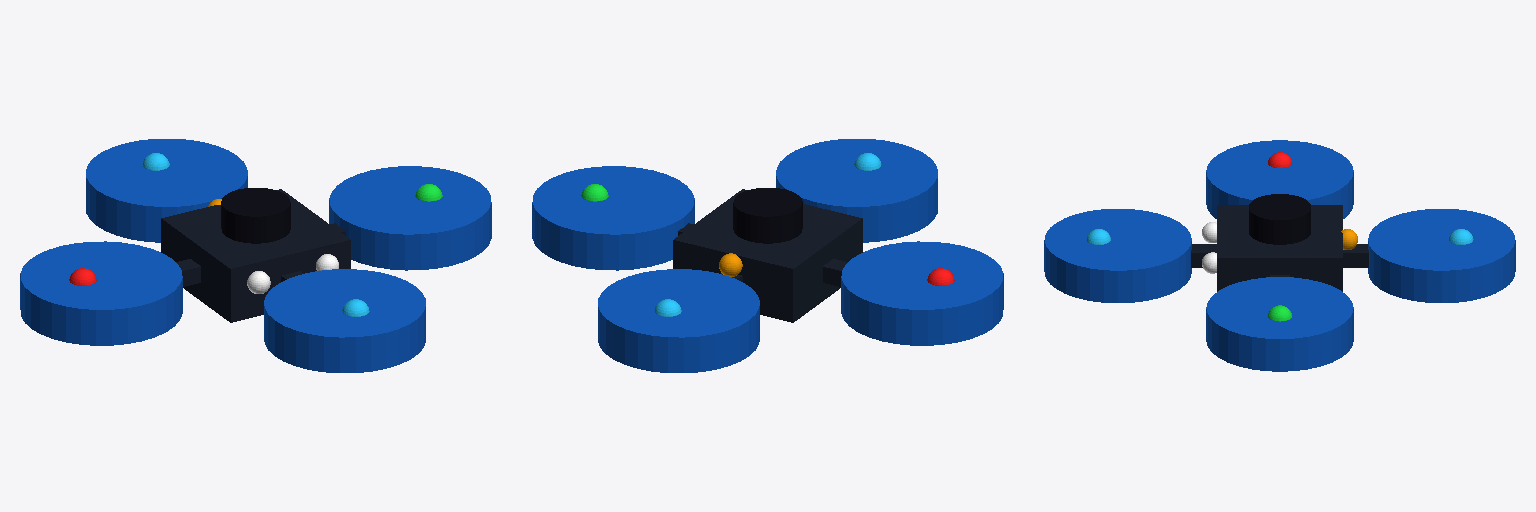
robot.urdf — evolved_shield_sentinel_v3:
<?xml version="1.0"?>
<robot name="evolved_shield_sentinel_v3">
  <!-- Base Link: Central Ducted Monocoque Airframe -->
  <link name="base_link">
    <inertial>
      <origin xyz="0 0 0" rpy="0 0 0"/>
      <mass value="0.880"/>
      <inertia ixx="0.006805" ixy="0" ixz="0" iyy="0.006805" iyz="0" izz="0.011499"/>
    </inertial>
    <!-- Main Center Avionics Hub -->
    <visual>
      <origin xyz="0 0 0" rpy="0 0 0"/>
      <geometry>
        <box size="0.14 0.14 0.06"/>
      </geometry>
      <material name="carbon_fiber">
        <color rgba="0.12 0.15 0.20 1.0"/>
      </material>
    </visual>
    <collision>
      <origin xyz="0 0 0" rpy="0 0 0"/>
      <geometry>
        <box size="0.14 0.14 0.06"/>
      </geometry>
    </collision>
    <!-- Downward Optical Flow & Ground ToF Sensor -->
    <visual>
      <origin xyz="0 0 -0.035" rpy="0 0 0"/>
      <geometry>
        <cylinder radius="0.02" length="0.015"/>
      </geometry>
      <material name="sensor_lens">
        <color rgba="0.0 0.8 1.0 0.9"/>
      </material>
    </visual>
    <!-- Top 360 LiDAR Turret -->
    <visual>
      <origin xyz="0 0 0.045" rpy="0 0 0"/>
      <geometry>
        <cylinder radius="0.035" length="0.03"/>
      </geometry>
      <material name="lidar_black">
        <color rgba="0.08 0.08 0.12 1.0"/>
      </material>
    </visual>
    <!-- Nose Dual White Orientation Headlights -->
    <visual>
      <origin xyz="0.04 -0.075 0.01" rpy="0 0 0"/>
      <geometry>
        <sphere radius="0.012"/>
      </geometry>
      <material name="headlight_white">
        <color rgba="1.0 1.0 1.0 1.0"/>
      </material>
    </visual>
    <visual>
      <origin xyz="-0.04 -0.075 0.01" rpy="0 0 0"/>
      <geometry>
        <sphere radius="0.012"/>
      </geometry>
      <material name="headlight_white">
        <color rgba="1.0 1.0 1.0 1.0"/>
      </material>
    </visual>
    <!-- Tail Amber Strobe Beacon -->
    <visual>
      <origin xyz="0 0.075 0.02" rpy="0 0 0"/>
      <geometry>
        <sphere radius="0.012"/>
      </geometry>
      <material name="tail_amber">
        <color rgba="0.96 0.62 0.04 1.0"/>
      </material>
    </visual>
  </link>

  <!-- Arm 1 & Integrated Polycarbonate Duct Guard Ring -->
  <link name="arm_1">
    <inertial>
      <origin xyz="0.0900 0.0000 0" rpy="0 0 0"/>
      <mass value="0.045"/>
      <inertia ixx="0.0001" ixy="0" ixz="0" iyy="0.0001" iyz="0" izz="0.0001"/>
    </inertial>
    <!-- Structural Arm Carbon Rod -->
    <visual>
      <origin xyz="0.0900 0.0000 0" rpy="0 0 0.0000"/>
      <geometry>
        <box size="0.1800 0.022 0.018"/>
      </geometry>
      <material name="carbon_fiber"/>
    </visual>
    <!-- 360° Circular Ducted Bumper Guard (Shock Absorbing Collision Ring) -->
    <visual>
      <origin xyz="0.1800 0.0000 0" rpy="0 0 0"/>
      <geometry>
        <cylinder radius="0.082" length="0.040"/>
      </geometry>
      <material name="polycarb_guard">
        <color rgba="0.1 0.4 0.8 0.35"/>
      </material>
    </visual>
    <collision>
      <origin xyz="0.1800 0.0000 0" rpy="0 0 0"/>
      <geometry>
        <cylinder radius="0.082" length="0.040"/>
      </geometry>
    </collision>
    <!-- Aviation Navigation LED Beacon (Left=Red, Right=Green) -->
    <visual>
      <origin xyz="0.2016 0.0000 0.018" rpy="0 0 0"/>
      <geometry>
        <sphere radius="0.014"/>
      </geometry>
      <material name="nav_led_1">
        <color rgba="0.15 0.9 0.3 1.0"/>
      </material>
    </visual>
  </link>
  <joint name="joint_arm_1" type="fixed">
    <parent link="base_link"/>
    <child link="arm_1"/>
    <origin xyz="0 0 0" rpy="0 0 0"/>
  </joint>

  <!-- Rotor 1 Link (Protected Inside Duct) -->
  <link name="rotor_1">
    <inertial>
      <origin xyz="0.1800 0.0000 0.01" rpy="0 0 0"/>
      <mass value="0.006"/>
      <inertia ixx="0.000005" ixy="0" ixz="0" iyy="0.000005" iyz="0" izz="0.000010"/>
    </inertial>
    <visual>
      <origin xyz="0.1800 0.0000 0.01" rpy="0 0 0"/>
      <geometry>
        <cylinder radius="0.065" length="0.006"/>
      </geometry>
      <material name="prop_cyan">
        <color rgba="0.0 0.85 1.0 0.6"/>
      </material>
    </visual>
  </link>
  <joint name="joint_rotor_1" type="continuous">
    <parent link="arm_1"/>
    <child link="rotor_1"/>
    <origin xyz="0 0 0" rpy="0 0 0"/>
    <axis xyz="0 0 1"/>
  </joint>

  <!-- Arm 2 & Integrated Polycarbonate Duct Guard Ring -->
  <link name="arm_2">
    <inertial>
      <origin xyz="0.0000 0.0900 0" rpy="0 0 0"/>
      <mass value="0.045"/>
      <inertia ixx="0.0001" ixy="0" ixz="0" iyy="0.0001" iyz="0" izz="0.0001"/>
    </inertial>
    <!-- Structural Arm Carbon Rod -->
    <visual>
      <origin xyz="0.0000 0.0900 0" rpy="0 0 1.5708"/>
      <geometry>
        <box size="0.1800 0.022 0.018"/>
      </geometry>
      <material name="carbon_fiber"/>
    </visual>
    <!-- 360° Circular Ducted Bumper Guard (Shock Absorbing Collision Ring) -->
    <visual>
      <origin xyz="0.0000 0.1800 0" rpy="0 0 0"/>
      <geometry>
        <cylinder radius="0.082" length="0.040"/>
      </geometry>
      <material name="polycarb_guard">
        <color rgba="0.1 0.4 0.8 0.35"/>
      </material>
    </visual>
    <collision>
      <origin xyz="0.0000 0.1800 0" rpy="0 0 0"/>
      <geometry>
        <cylinder radius="0.082" length="0.040"/>
      </geometry>
    </collision>
    <!-- Aviation Navigation LED Beacon (Left=Red, Right=Green) -->
    <visual>
      <origin xyz="0.0000 0.2016 0.018" rpy="0 0 0"/>
      <geometry>
        <sphere radius="0.014"/>
      </geometry>
      <material name="nav_led_2">
        <color rgba="0.2 0.8 1.0 1.0"/>
      </material>
    </visual>
  </link>
  <joint name="joint_arm_2" type="fixed">
    <parent link="base_link"/>
    <child link="arm_2"/>
    <origin xyz="0 0 0" rpy="0 0 0"/>
  </joint>

  <!-- Rotor 2 Link (Protected Inside Duct) -->
  <link name="rotor_2">
    <inertial>
      <origin xyz="0.0000 0.1800 0.01" rpy="0 0 0"/>
      <mass value="0.006"/>
      <inertia ixx="0.000005" ixy="0" ixz="0" iyy="0.000005" iyz="0" izz="0.000010"/>
    </inertial>
    <visual>
      <origin xyz="0.0000 0.1800 0.01" rpy="0 0 0"/>
      <geometry>
        <cylinder radius="0.065" length="0.006"/>
      </geometry>
      <material name="prop_cyan">
        <color rgba="0.0 0.85 1.0 0.6"/>
      </material>
    </visual>
  </link>
  <joint name="joint_rotor_2" type="continuous">
    <parent link="arm_2"/>
    <child link="rotor_2"/>
    <origin xyz="0 0 0" rpy="0 0 0"/>
    <axis xyz="0 0 1"/>
  </joint>

  <!-- Arm 3 & Integrated Polycarbonate Duct Guard Ring -->
  <link name="arm_3">
    <inertial>
      <origin xyz="-0.0900 0.0000 0" rpy="0 0 0"/>
      <mass value="0.045"/>
      <inertia ixx="0.0001" ixy="0" ixz="0" iyy="0.0001" iyz="0" izz="0.0001"/>
    </inertial>
    <!-- Structural Arm Carbon Rod -->
    <visual>
      <origin xyz="-0.0900 0.0000 0" rpy="0 0 3.1416"/>
      <geometry>
        <box size="0.1800 0.022 0.018"/>
      </geometry>
      <material name="carbon_fiber"/>
    </visual>
    <!-- 360° Circular Ducted Bumper Guard (Shock Absorbing Collision Ring) -->
    <visual>
      <origin xyz="-0.1800 0.0000 0" rpy="0 0 0"/>
      <geometry>
        <cylinder radius="0.082" length="0.040"/>
      </geometry>
      <material name="polycarb_guard">
        <color rgba="0.1 0.4 0.8 0.35"/>
      </material>
    </visual>
    <collision>
      <origin xyz="-0.1800 0.0000 0" rpy="0 0 0"/>
      <geometry>
        <cylinder radius="0.082" length="0.040"/>
      </geometry>
    </collision>
    <!-- Aviation Navigation LED Beacon (Left=Red, Right=Green) -->
    <visual>
      <origin xyz="-0.2016 0.0000 0.018" rpy="0 0 0"/>
      <geometry>
        <sphere radius="0.014"/>
      </geometry>
      <material name="nav_led_3">
        <color rgba="1.0 0.15 0.15 1.0"/>
      </material>
    </visual>
  </link>
  <joint name="joint_arm_3" type="fixed">
    <parent link="base_link"/>
    <child link="arm_3"/>
    <origin xyz="0 0 0" rpy="0 0 0"/>
  </joint>

  <!-- Rotor 3 Link (Protected Inside Duct) -->
  <link name="rotor_3">
    <inertial>
      <origin xyz="-0.1800 0.0000 0.01" rpy="0 0 0"/>
      <mass value="0.006"/>
      <inertia ixx="0.000005" ixy="0" ixz="0" iyy="0.000005" iyz="0" izz="0.000010"/>
    </inertial>
    <visual>
      <origin xyz="-0.1800 0.0000 0.01" rpy="0 0 0"/>
      <geometry>
        <cylinder radius="0.065" length="0.006"/>
      </geometry>
      <material name="prop_cyan">
        <color rgba="0.0 0.85 1.0 0.6"/>
      </material>
    </visual>
  </link>
  <joint name="joint_rotor_3" type="continuous">
    <parent link="arm_3"/>
    <child link="rotor_3"/>
    <origin xyz="0 0 0" rpy="0 0 0"/>
    <axis xyz="0 0 1"/>
  </joint>

  <!-- Arm 4 & Integrated Polycarbonate Duct Guard Ring -->
  <link name="arm_4">
    <inertial>
      <origin xyz="-0.0000 -0.0900 0" rpy="0 0 0"/>
      <mass value="0.045"/>
      <inertia ixx="0.0001" ixy="0" ixz="0" iyy="0.0001" iyz="0" izz="0.0001"/>
    </inertial>
    <!-- Structural Arm Carbon Rod -->
    <visual>
      <origin xyz="-0.0000 -0.0900 0" rpy="0 0 4.7124"/>
      <geometry>
        <box size="0.1800 0.022 0.018"/>
      </geometry>
      <material name="carbon_fiber"/>
    </visual>
    <!-- 360° Circular Ducted Bumper Guard (Shock Absorbing Collision Ring) -->
    <visual>
      <origin xyz="-0.0000 -0.1800 0" rpy="0 0 0"/>
      <geometry>
        <cylinder radius="0.082" length="0.040"/>
      </geometry>
      <material name="polycarb_guard">
        <color rgba="0.1 0.4 0.8 0.35"/>
      </material>
    </visual>
    <collision>
      <origin xyz="-0.0000 -0.1800 0" rpy="0 0 0"/>
      <geometry>
        <cylinder radius="0.082" length="0.040"/>
      </geometry>
    </collision>
    <!-- Aviation Navigation LED Beacon (Left=Red, Right=Green) -->
    <visual>
      <origin xyz="-0.0000 -0.2016 0.018" rpy="0 0 0"/>
      <geometry>
        <sphere radius="0.014"/>
      </geometry>
      <material name="nav_led_4">
        <color rgba="0.2 0.8 1.0 1.0"/>
      </material>
    </visual>
  </link>
  <joint name="joint_arm_4" type="fixed">
    <parent link="base_link"/>
    <child link="arm_4"/>
    <origin xyz="0 0 0" rpy="0 0 0"/>
  </joint>

  <!-- Rotor 4 Link (Protected Inside Duct) -->
  <link name="rotor_4">
    <inertial>
      <origin xyz="-0.0000 -0.1800 0.01" rpy="0 0 0"/>
      <mass value="0.006"/>
      <inertia ixx="0.000005" ixy="0" ixz="0" iyy="0.000005" iyz="0" izz="0.000010"/>
    </inertial>
    <visual>
      <origin xyz="-0.0000 -0.1800 0.01" rpy="0 0 0"/>
      <geometry>
        <cylinder radius="0.065" length="0.006"/>
      </geometry>
      <material name="prop_cyan">
        <color rgba="0.0 0.85 1.0 0.6"/>
      </material>
    </visual>
  </link>
  <joint name="joint_rotor_4" type="continuous">
    <parent link="arm_4"/>
    <child link="rotor_4"/>
    <origin xyz="0 0 0" rpy="0 0 0"/>
    <axis xyz="0 0 1"/>
  </joint>
</robot>

--- What the picture shows (computed from the rendered views, not written in the file) ---
3 views of the same robot in one strip: view 1: azimuth 30°, elevation 25°; view 2: azimuth 150°, elevation 25°; view 3: azimuth 270°, elevation 25° (orthographic).
Model evolved_shield_sentinel_v3 with 9 links and 8 joints (4 continuous, 4 fixed), rooted at base_link, posed every joint at zero.
Links seen in each view (by area): view 1: base_link, arm_3, arm_4, arm_1, arm_2; view 2: base_link, arm_3, arm_2, arm_1, arm_4; view 3: arm_2, arm_4, arm_1, base_link, arm_3.
Link boxes in pixels (bbox=[...]): base_link: bbox=[161, 188, 350, 322]; arm_3: bbox=[20, 241, 200, 345]; arm_4: bbox=[264, 269, 425, 372]; arm_1: bbox=[329, 166, 491, 270]; arm_2: bbox=[86, 139, 247, 242]; base_link: bbox=[673, 188, 862, 322]; arm_3: bbox=[823, 241, 1003, 345]; arm_2: bbox=[598, 269, 759, 372]; arm_1: bbox=[532, 166, 694, 270]; arm_4: bbox=[776, 139, 937, 242]; arm_2: bbox=[1343, 209, 1515, 302]; arm_4: bbox=[1044, 209, 1216, 302]; arm_1: bbox=[1206, 275, 1353, 371]; base_link: bbox=[1202, 194, 1357, 291]; arm_3: bbox=[1206, 140, 1353, 218].
Size in the robot's own frame: 0.524 by 0.524 by 0.1025 metres.
Geometry: primitives only (box / cylinder / sphere), no mesh files.
